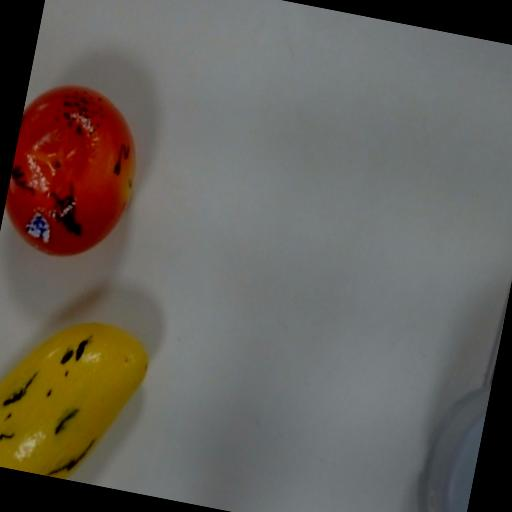Defective: (0, 294, 165, 491), (0, 70, 155, 275)
